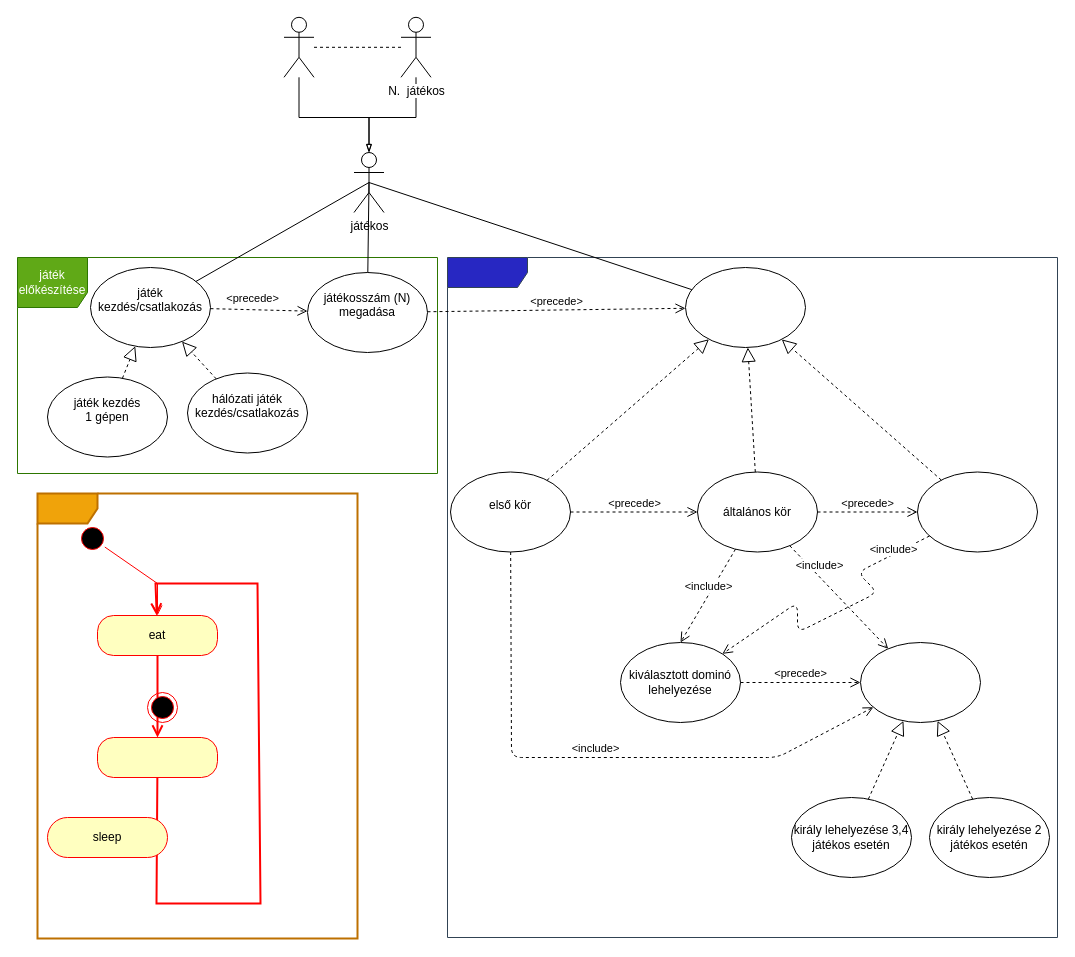
This 1075x957 diagram has some shape labels left out. Each missing label, with the box of its shape:
1. játékos: (283, 16, 314, 77)
játék folyamatban: (446, 256, 1058, 938)
játékos köre: (684, 266, 806, 348)
király lehelyezése: (860, 642, 980, 722)
learn: (96, 736, 218, 778)
life: (36, 492, 358, 939)
utolsó kör: (916, 471, 1038, 552)
